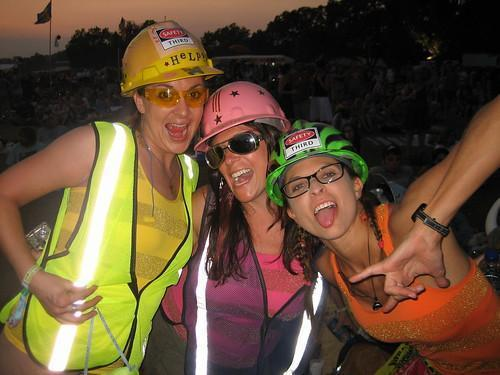vest: (0, 118, 200, 369)
